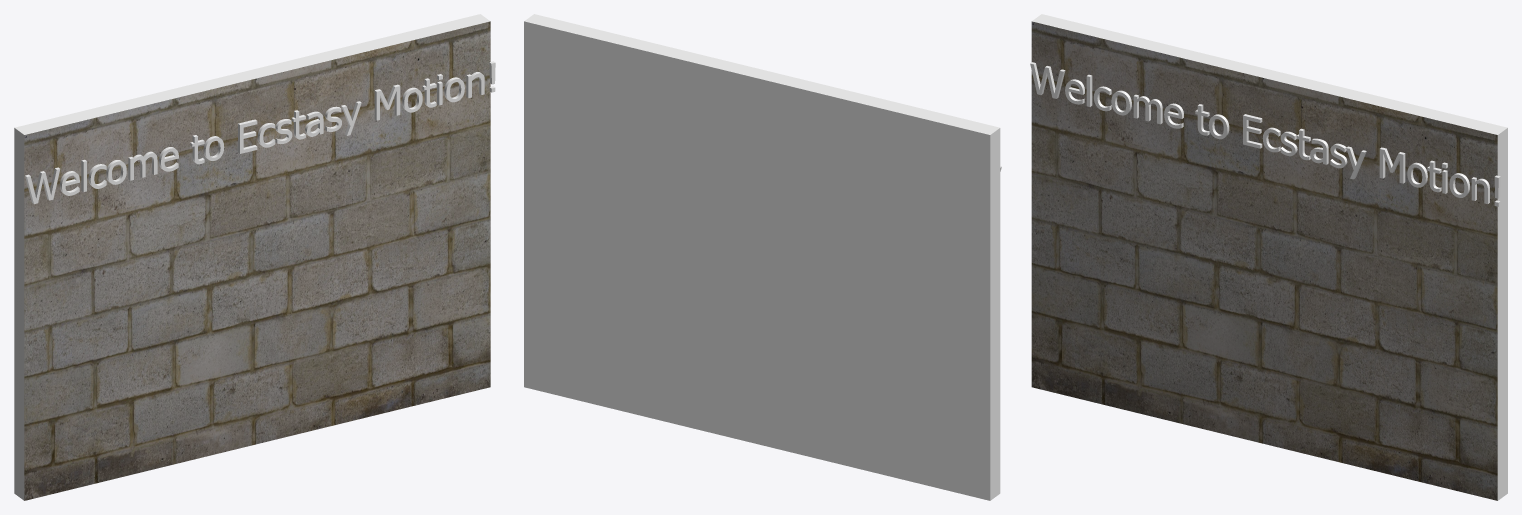
The model's file is WelcomeBillboard_00.dae.
3 renders of one model, left to right at view 1: azimuth 30°, elevation 25°; view 2: azimuth 150°, elevation 25°; view 3: azimuth 330°, elevation 25°, orthographic.
Parts seen in each view (by area): view 1: SketchUp (×2), Welcome_to_Ecsta (×2); view 2: SketchUp; view 3: SketchUp (×2), Welcome_to_Ecsta (×2).
Boxes of the visible parts, bbox=[...] form: SketchUp (×2): bbox=[14, 14, 490, 500]; Welcome_to_Ecsta (×2): bbox=[25, 84, 400, 204]; SketchUp: bbox=[524, 14, 1000, 500]; SketchUp (×2): bbox=[1031, 14, 1507, 500]; Welcome_to_Ecsta (×2): bbox=[1030, 62, 1405, 183].
Bounding box in the file's own units: 158 × 7.09 × 118.
